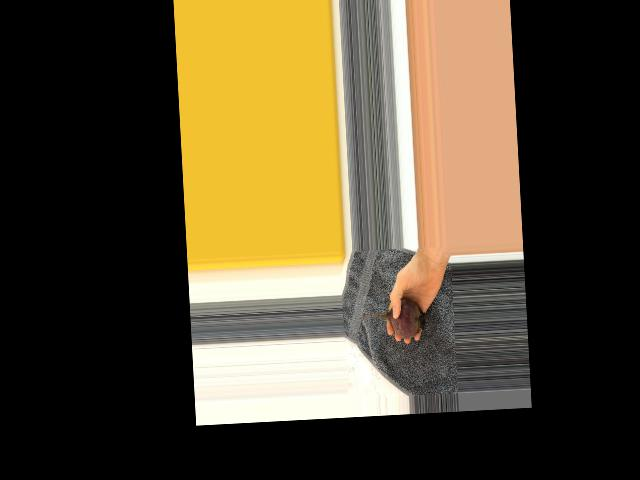beet: (358, 297, 426, 341)
